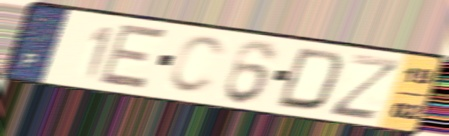1: (84, 25, 115, 80)
6: (221, 37, 279, 107)
C: (165, 33, 228, 97)
D: (271, 46, 348, 114)
E: (95, 21, 172, 92)
Z: (326, 52, 405, 123)
